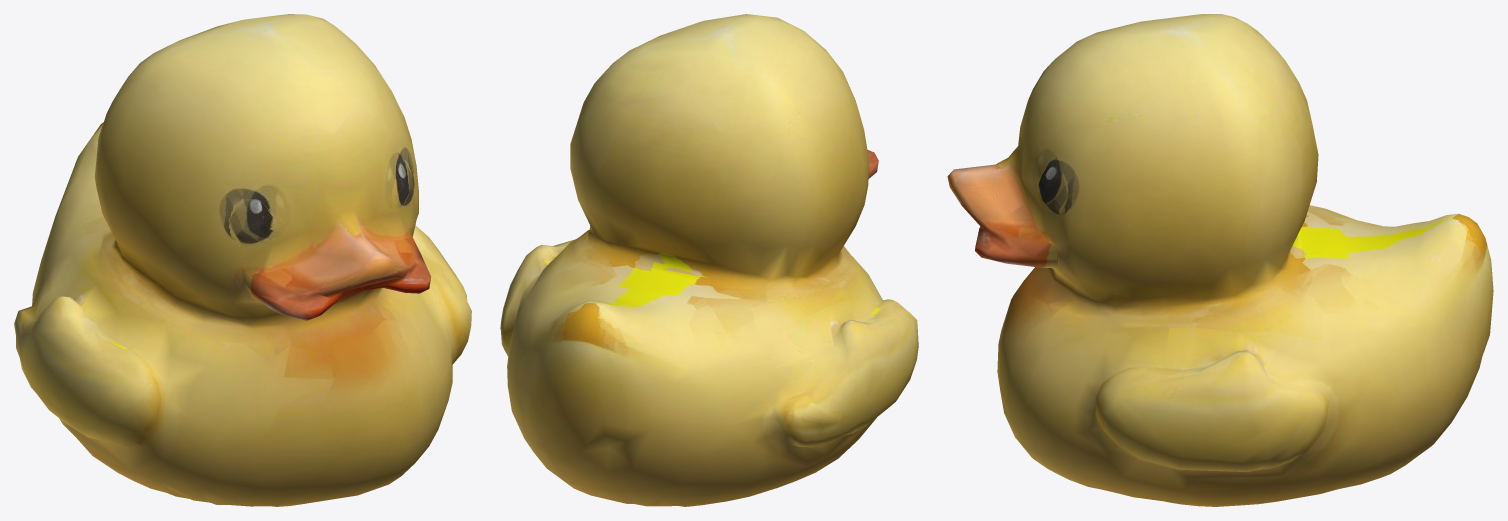
File: duck-low.glb
3 renders of one model, left to right at view 1: azimuth 30°, elevation 25°; view 2: azimuth 150°, elevation 25°; view 3: azimuth 270°, elevation 25°, orthographic. The views are drawn at different scales.
Visible parts, largest first — view 1: duck_LOD1; view 2: duck_LOD1; view 3: duck_LOD1.
Boxes of the visible parts, x1,y1,x2,y2 form: duck_LOD1: (14, 14, 471, 506); duck_LOD1: (500, 14, 918, 506); duck_LOD1: (947, 14, 1493, 506).
Bounding box in the file's own units: 0.8105 × 0.8784 × 0.991.
Materials: 1 (1 with a texture image).
